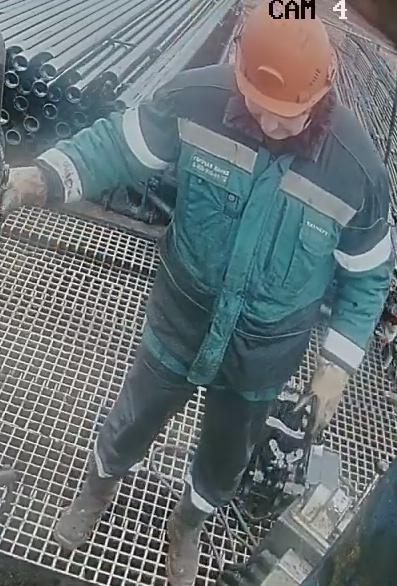gloves: (289, 339, 365, 446), (0, 155, 63, 216)
helmet: (233, 0, 337, 118)
vest: (121, 65, 375, 397)
